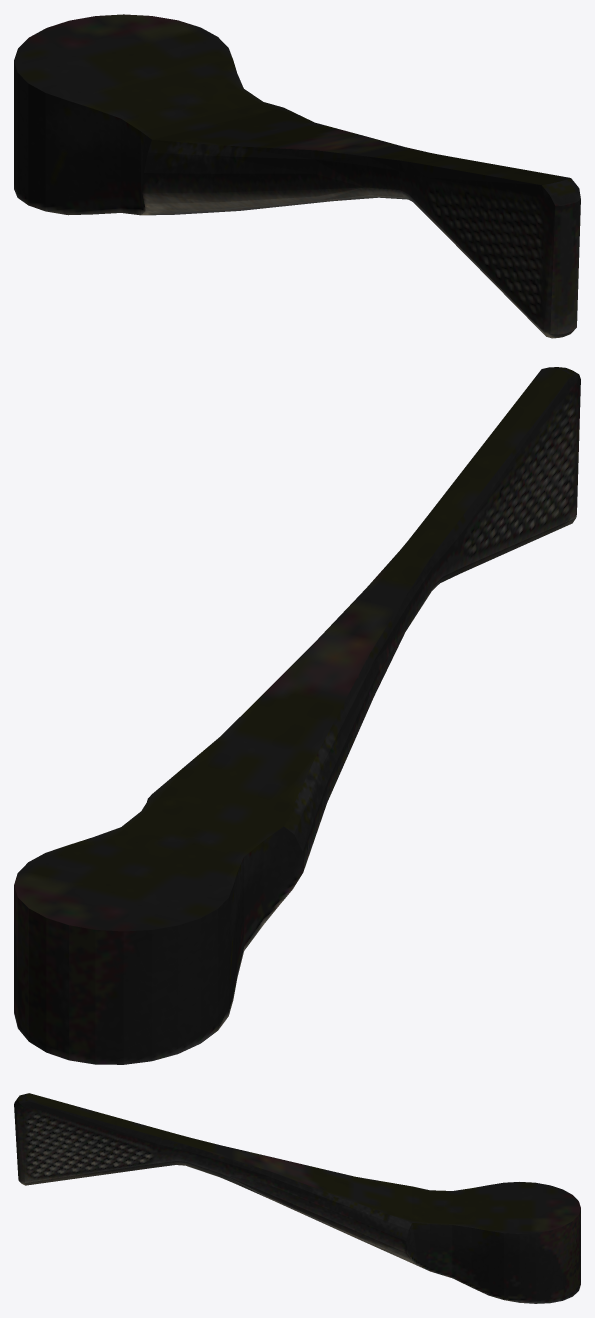
3 renders of one model, top to bottom at view 1: azimuth 30°, elevation 25°; view 2: azimuth 150°, elevation 25°; view 3: azimuth 270°, elevation 25°, orthographic. The views are drawn at different scales.
Visible parts, largest first — view 1: TW_64748cb8de82c85eaf0a273a_PZ_Import; view 2: TW_64748cb8de82c85eaf0a273a_PZ_Import; view 3: TW_64748cb8de82c85eaf0a273a_PZ_Import.
Part boxes in pixels (x1=…): TW_64748cb8de82c85eaf0a273a_PZ_Import: x1=14, y1=14, x2=580, y2=338; TW_64748cb8de82c85eaf0a273a_PZ_Import: x1=14, y1=367, x2=580, y2=1064; TW_64748cb8de82c85eaf0a273a_PZ_Import: x1=14, y1=1093, x2=580, y2=1303.
Size of the model in its own units: 0.00817 by 0.0374 by 0.0137.
1 material, 1 textured.
